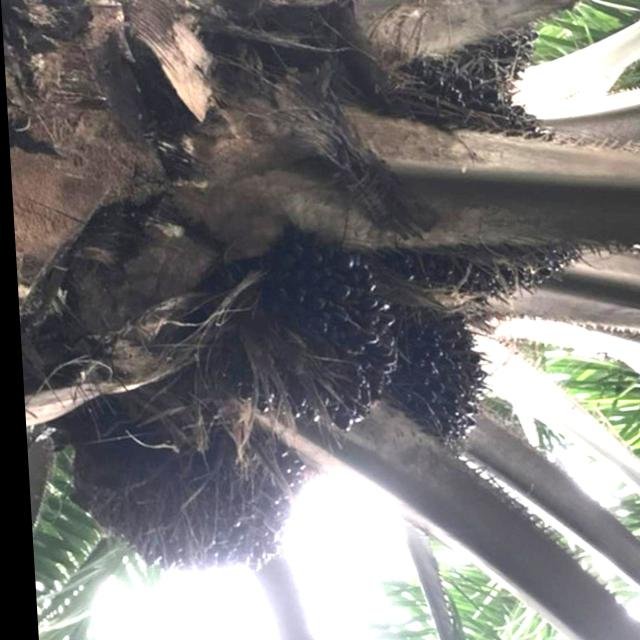almost: (392, 112, 596, 300), (61, 427, 307, 580), (219, 225, 406, 420), (389, 303, 489, 474), (404, 11, 556, 110)
